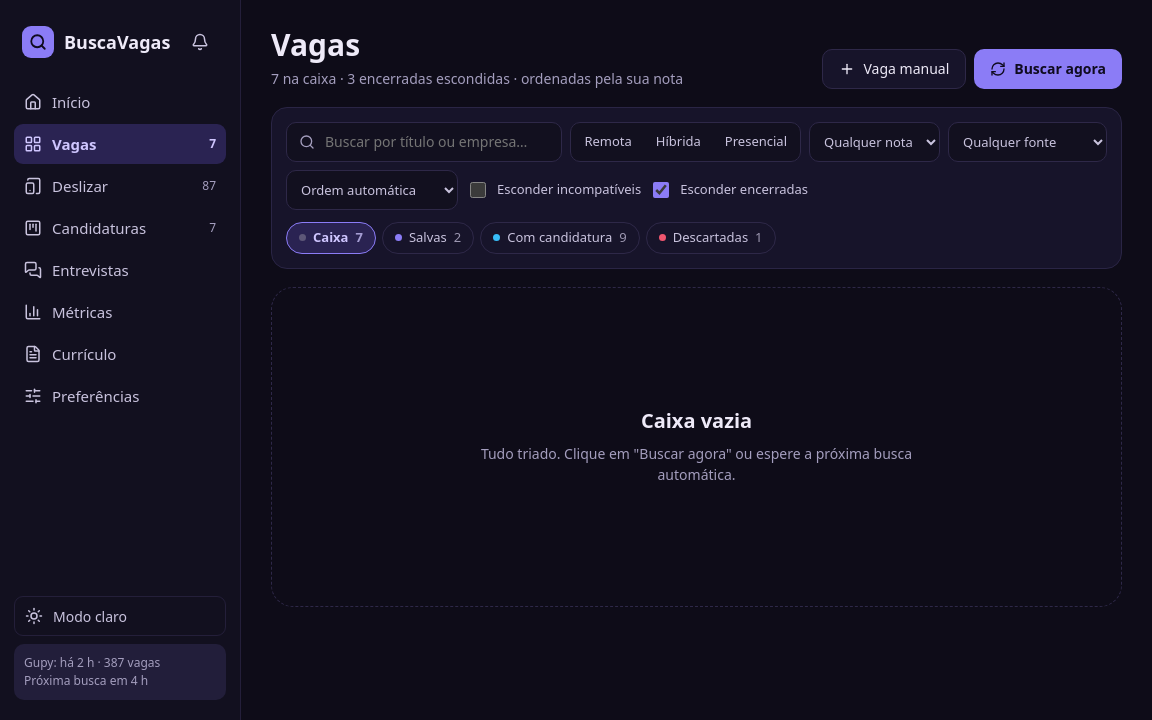
Test: Ainda está aberta? — telas › Vagas: "Esconder encerradas" vem ligado; desligar guarda na URL e pede tudo
The image size is (1152, 720).
Check: the text "7 na caixa · 3 encerradas escondidas" is shown, box [271,68,683,88]
Check: the button "Caixa 7" is shown, box [286,222,376,254]
Click the checkbox labelled "Esconder encerradas": (661, 190) [653,182,669,198]
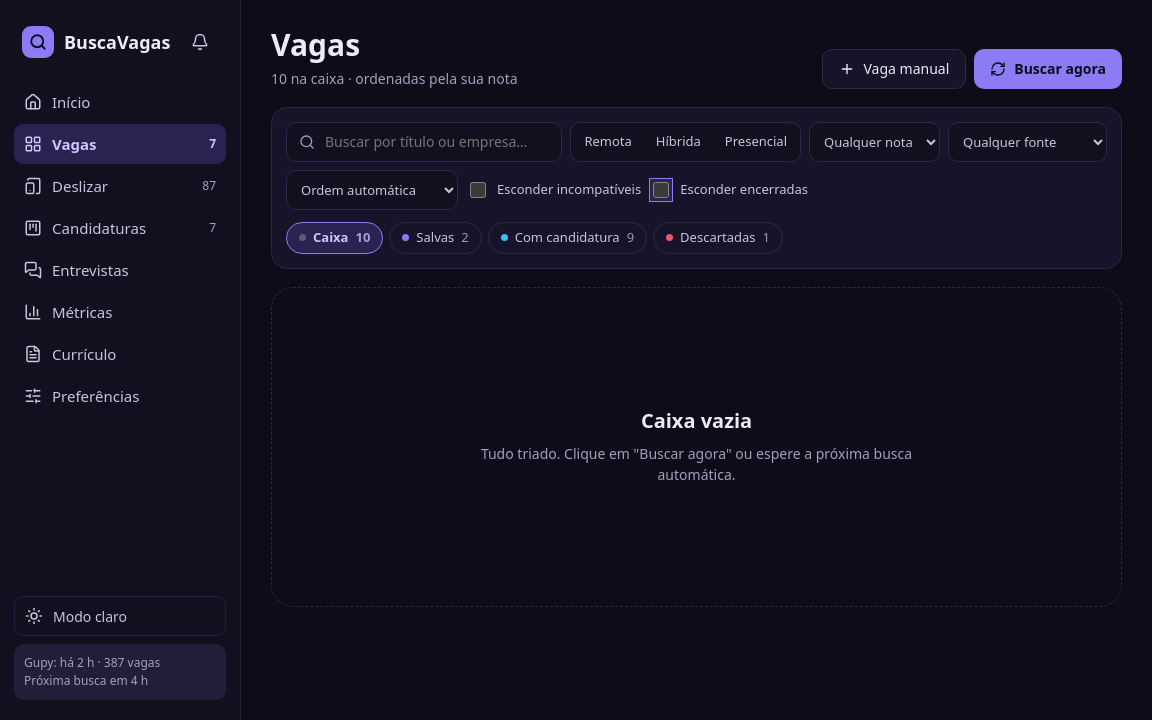
Check: the button "Caixa 10" is shown, box [286,222,383,254]
# Salvas nunca somem: ali a opção nem aparece.
Click the button "Salvas 2": (436, 238) [389,222,482,254]
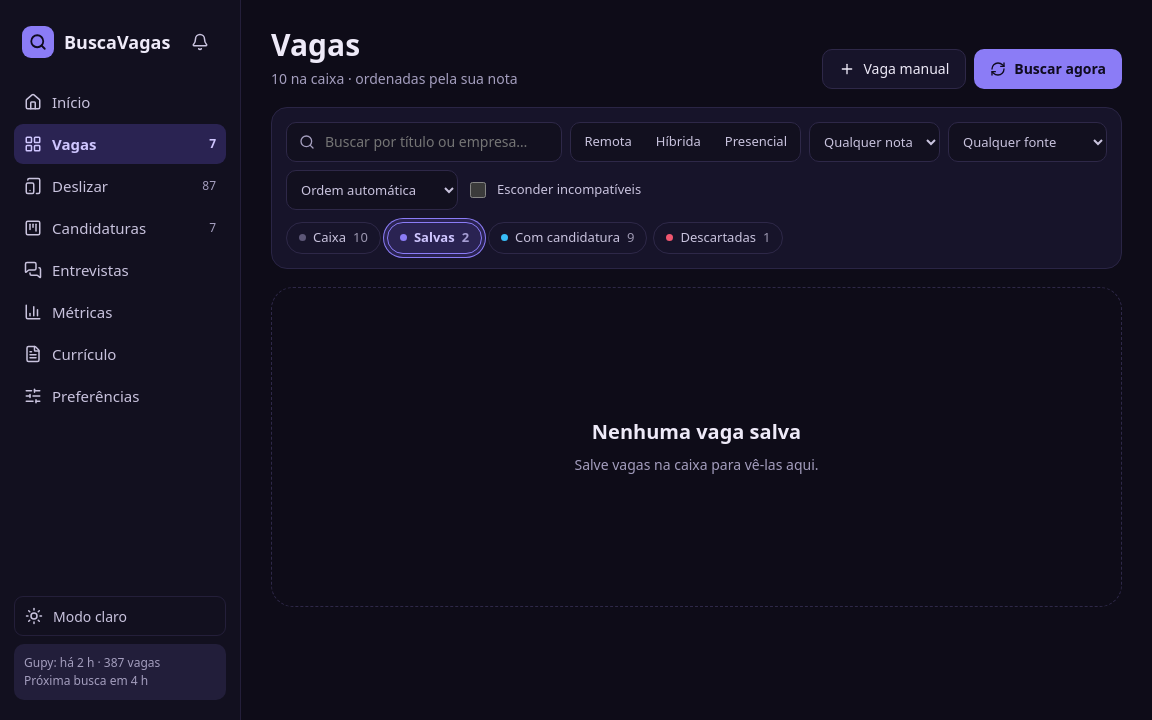
Check: the label "Esconder encerradas" is gone
